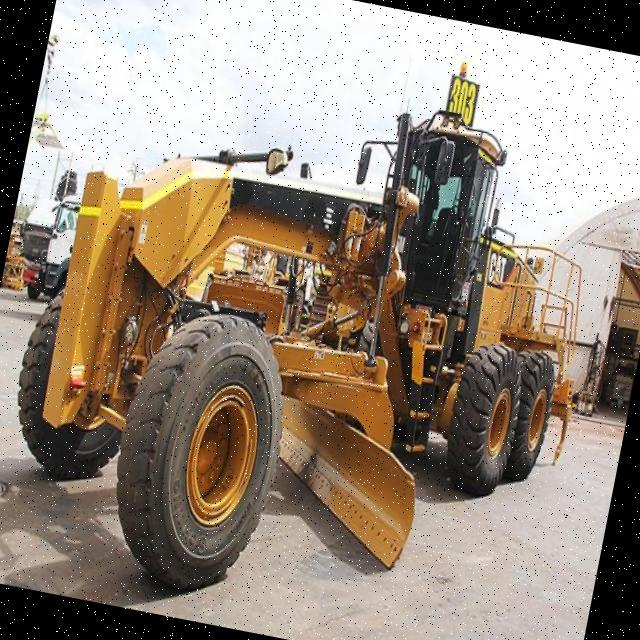Grader: (0, 28, 630, 640)
